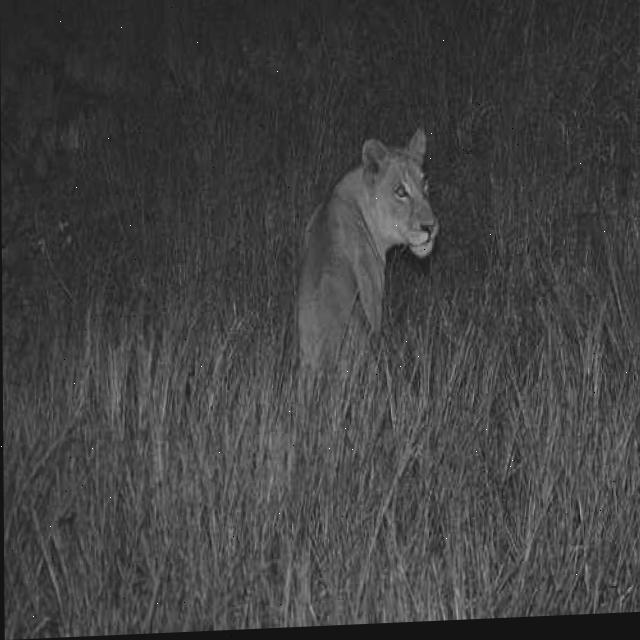Lion: (338, 143, 455, 367)
